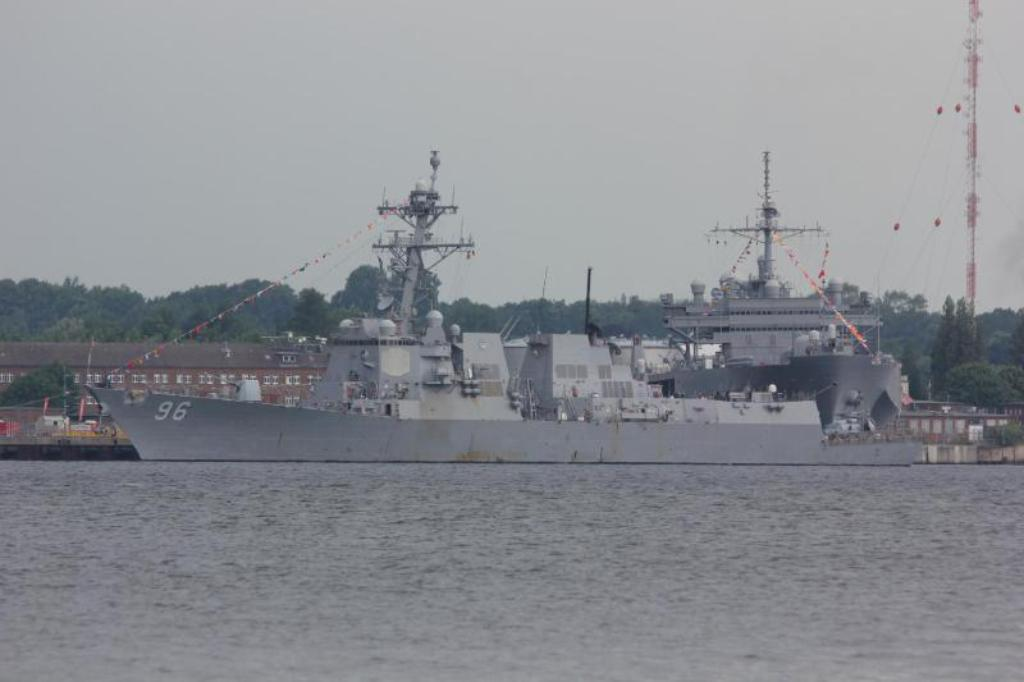Warship: (82, 144, 918, 463), (628, 144, 904, 436)
